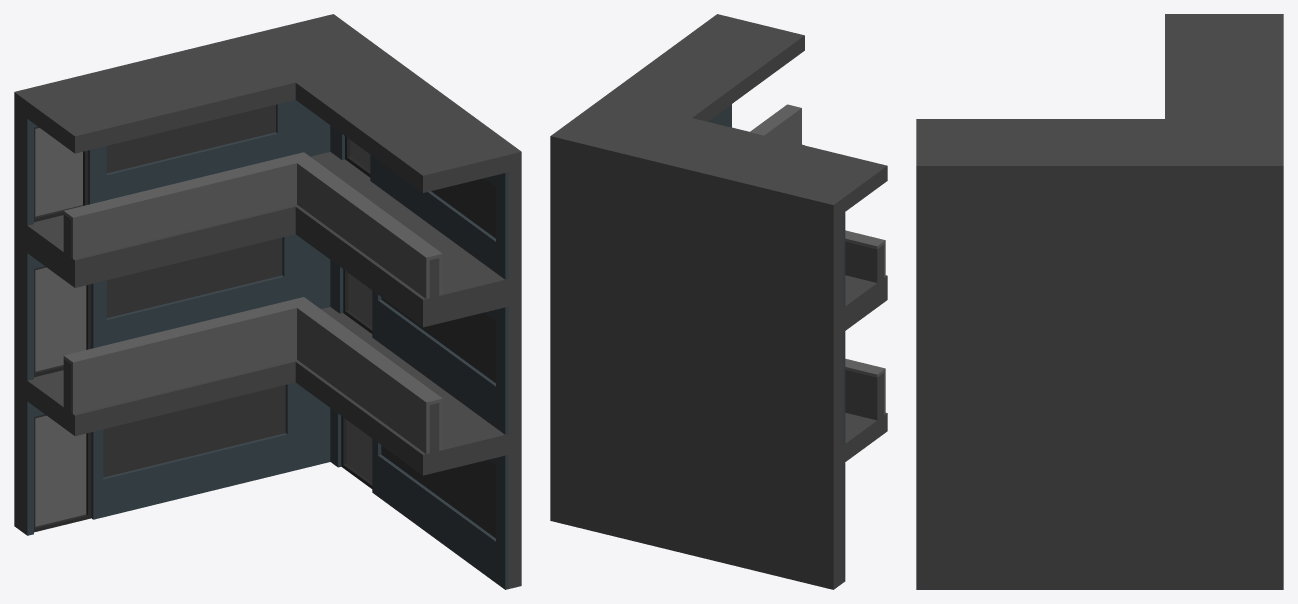
Rendered from Pool_building-1.obj.
The picture shows the model from 3 angles, left to right: view 1: azimuth 30°, elevation 25°; view 2: azimuth 150°, elevation 25°; view 3: azimuth 270°, elevation 25°; orthographic projection. The views are drawn at different scales.
Size of the model in its own units: 9.7 by 12.6 by 9.9.
1 material, 1 textured.
